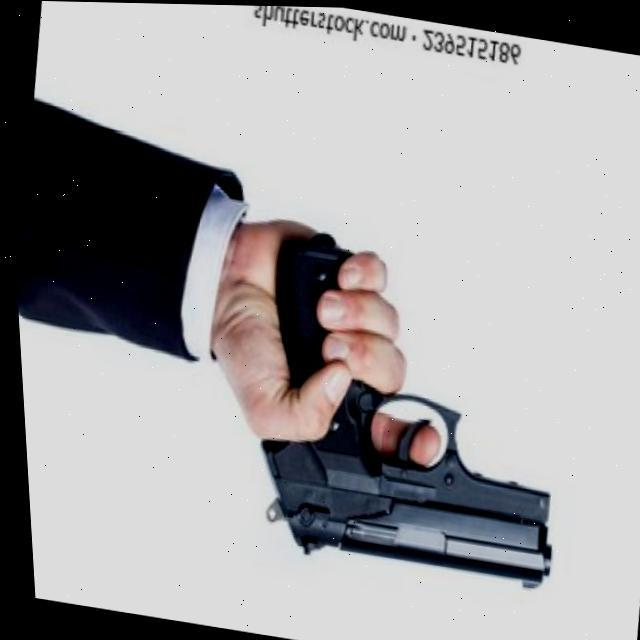gun: (227, 230, 584, 594)
